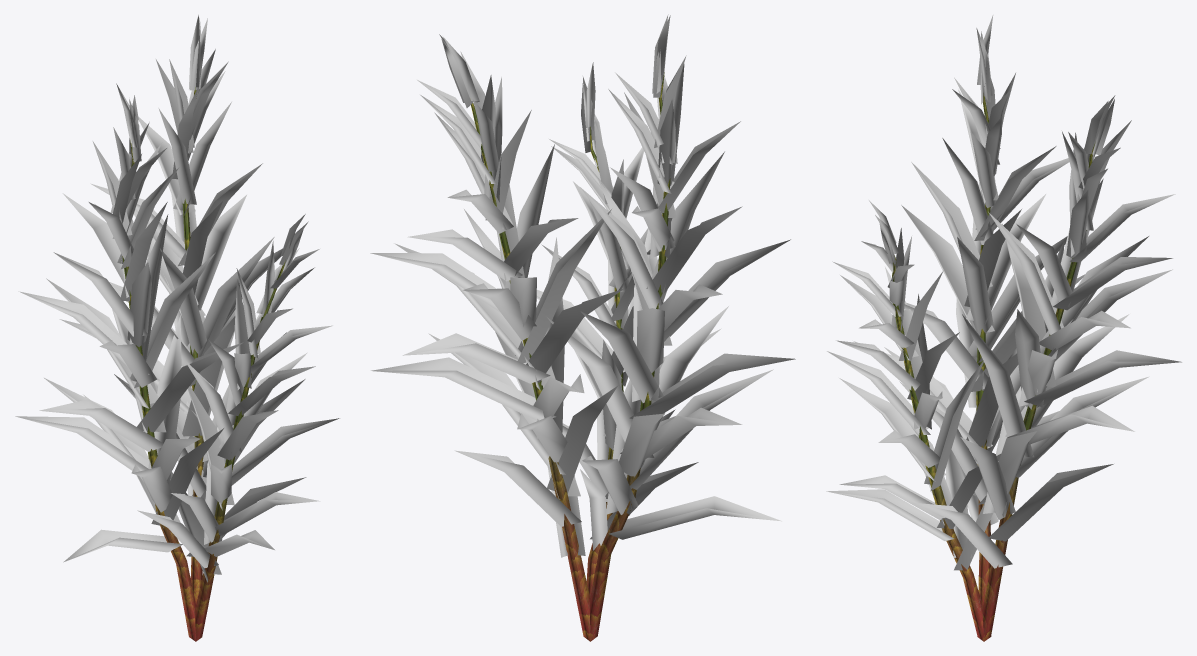
File: Plant5_2_L3.fbx
3 renders of one model, left to right at view 1: azimuth 30°, elevation 25°; view 2: azimuth 150°, elevation 25°; view 3: azimuth 270°, elevation 25°, orthographic. The views are drawn at different scales.
Visible parts, largest first — view 1: polySurface20; view 2: polySurface20; view 3: polySurface20.
Boxes of the visible parts, x1=… form: polySurface20: x1=15, y1=15, x2=339, y2=641; polySurface20: x1=370, y1=14, x2=795, y2=641; polySurface20: x1=826, y1=15, x2=1181, y2=641.
Bounding box in the file's own units: 319 × 565 × 312.
